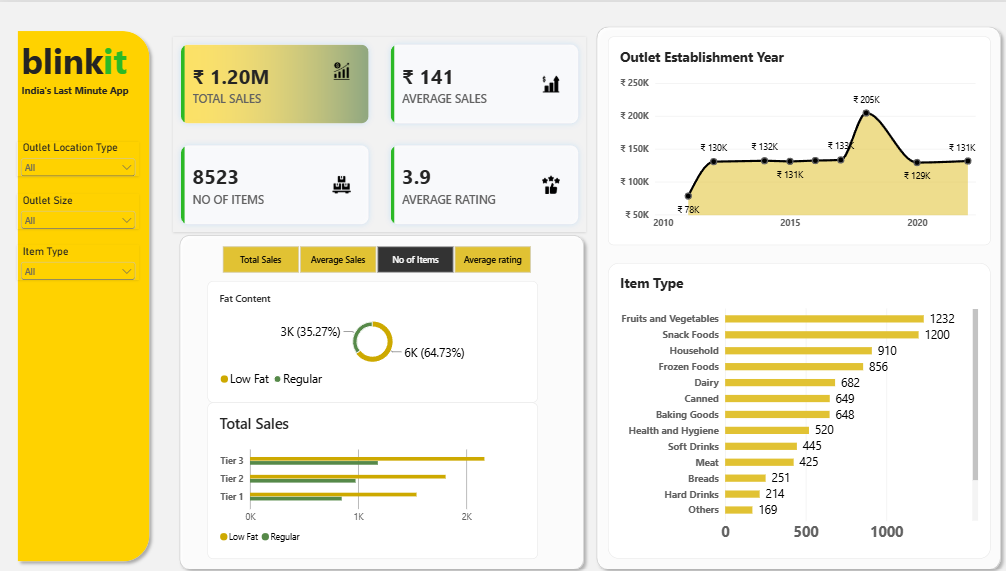

This screenshot's page, from the dashboard's own definition file:
{"tool":"powerbi","page":{"name":"Page 1","canvas":[1400,800],"ordinal":0},"visuals":[{"type":"shape","box":[16,32,200,750],"z":0},{"type":"textbox","box":[32,48,160,80],"z":1000},{"type":"textbox","box":[32,112,192,32],"z":2000},{"type":"cardVisual","fields":{"Data":["BlinkIT Grocery Data.Total Sales","BlinkIT Grocery Data.Average Sales","BlinkIT Grocery Data.No of Items","BlinkIT Grocery Data.Average rating"]},"box":[240,48,570,270],"z":3000},{"type":"shape","box":[240,312,576,480],"z":4000},{"type":"donutChart","title":"Fat Content","fields":{"Category":["BlinkIT Grocery Data.Item Fat Content"],"Y":["BlinkIT Grocery Data.No of Items"]},"box":[288,384,456,168],"z":5000},{"type":"slicer","fields":{"Values":["Metrics.Metrics"]},"box":[288,336,465,40],"z":6000},{"type":"clusteredBarChart","title":"Total Sales ","fields":{"Category":["BlinkIT Grocery Data.Outlet Location Type"],"Series":["BlinkIT Grocery Data.Item Fat Content"],"Y":["BlinkIT Grocery Data.No of Items"]},"box":[288,552,456,216],"z":7000},{"type":"shape","box":[816,24,576,768],"z":8000},{"type":"lineChart","title":"Outlet Establishment Year","fields":{"Category":["BlinkIT Grocery Data.Outlet Establishment Year"],"Y":["BlinkIT Grocery Data.Total Sales"]},"box":[840,48,528,288],"z":8001},{"type":"barChart","title":"Item Type","fields":{"Category":["BlinkIT Grocery Data.Item Type"],"Y":["BlinkIT Grocery Data.No of Items"]},"box":[840,360,528,408],"z":8002},{"type":"slicer","fields":{"Values":["BlinkIT Grocery Data.Outlet Location Type"]},"box":[24,192,168,48],"z":8003},{"type":"slicer","fields":{"Values":["BlinkIT Grocery Data.Outlet Size"]},"box":[24,264,168,48],"z":8004},{"type":"slicer","fields":{"Values":["BlinkIT Grocery Data.Item Type"]},"box":[24,336,168,48],"z":8005}]}

Visuals, with their boxes in screenshot pixels (x1, y1, x2, y2), scaled from the page's 1400x800 canvas onto the 1006x571 screenshot:
shape: bbox(11, 23, 155, 558)
textbox: bbox(23, 34, 138, 91)
textbox: bbox(23, 80, 161, 103)
cardVisual - BlinkIT Grocery Data.Total Sales x BlinkIT Grocery Data.Average Sales: bbox(172, 34, 582, 227)
shape: bbox(172, 223, 586, 565)
"Fat Content" donutChart: bbox(207, 274, 535, 394)
slicer - Metrics.Metrics: bbox(207, 240, 541, 268)
"Total Sales " clusteredBarChart: bbox(207, 394, 535, 548)
shape: bbox(586, 17, 1000, 565)
"Outlet Establishment Year" lineChart: bbox(604, 34, 983, 240)
"Item Type" barChart: bbox(604, 257, 983, 548)
slicer - BlinkIT Grocery Data.Outlet Location Type: bbox(17, 137, 138, 171)
slicer - BlinkIT Grocery Data.Outlet Size: bbox(17, 188, 138, 223)
slicer - BlinkIT Grocery Data.Item Type: bbox(17, 240, 138, 274)
